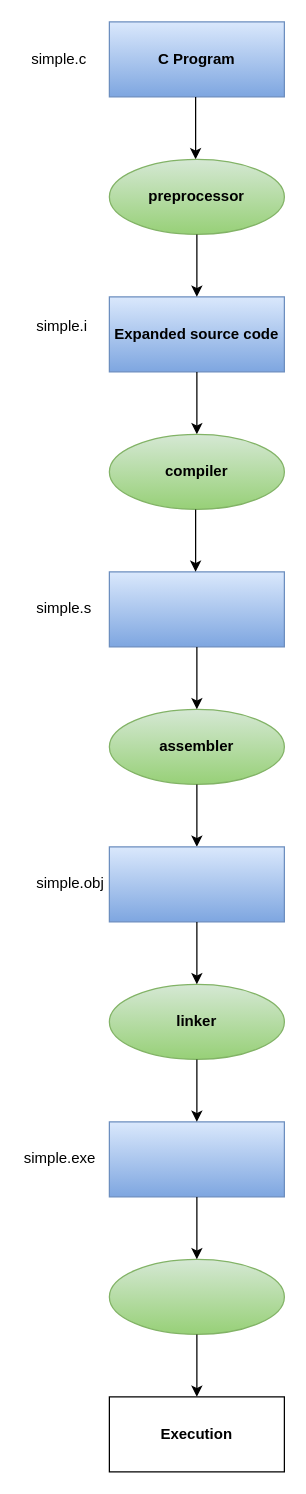
Some shapes in this 306 by 1494 pixel diagram are drawn without their labels. The shapes that lost their labels are listed below. From the top down, each one's box as (x1, y1, x2, y2) in pixels, then its label:
(108, 571, 284, 647): Assembly Code
(108, 846, 284, 922): Object Code
(108, 1121, 284, 1197): Executable Code
(108, 1258, 284, 1334): loader
